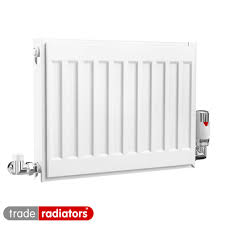Radiator: (15, 37, 210, 186)
